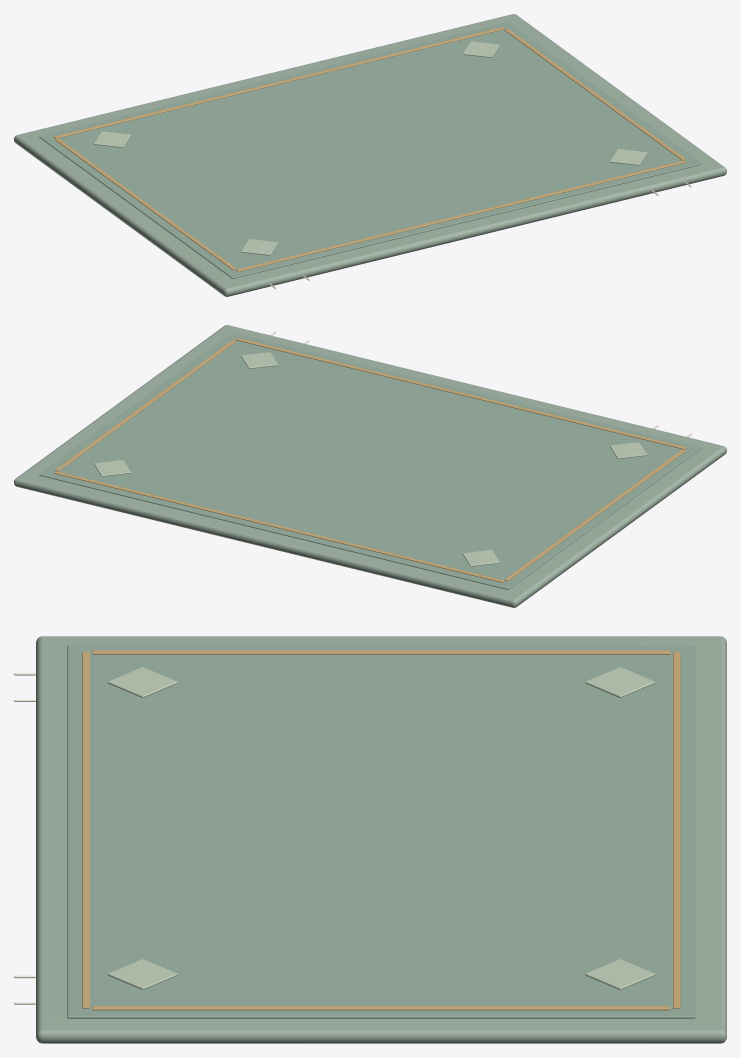
The model's file is rug.glb.
3 renders of one model, top to bottom at view 1: azimuth 30°, elevation 25°; view 2: azimuth 150°, elevation 25°; view 3: azimuth 270°, elevation 25°, orthographic. The views are drawn at different scales.
Parts seen in each view (by area): view 1: Rug inset, Rug body, Woven border, Woven border.001, Woven border.002, Woven border.003, Rug diamond.001, Rug diamond.003, Rug diamond, Rug diamond.002; view 2: Rug inset, Rug body, Woven border, Woven border.001, Woven border.002, Woven border.003, Rug diamond, Rug diamond.002, Rug diamond.001, Rug diamond.003; view 3: Rug inset, Rug body, Woven border.002, Woven border.003, Woven border, Woven border.001, Rug diamond.003, Rug diamond.002, Rug diamond.001, Rug diamond.
Boxes of the visible parts, box(x1,y1,x2,y2) form: Rug inset: box(39, 22, 701, 278); Rug body: box(14, 14, 726, 296); Woven border: box(236, 160, 686, 271); Woven border.001: box(54, 27, 504, 138); Woven border.002: box(55, 138, 236, 270); Woven border.003: box(504, 29, 685, 160); Rug diamond.001: box(93, 131, 131, 147); Rug diamond.003: box(462, 41, 499, 57); Rug diamond: box(241, 239, 278, 255); Rug diamond.002: box(609, 149, 647, 165); Rug inset: box(39, 333, 701, 589); Rug body: box(14, 325, 726, 607); Woven border: box(236, 338, 686, 449); Woven border.001: box(54, 471, 504, 582); Woven border.002: box(504, 449, 685, 581); Woven border.003: box(55, 340, 236, 471); Rug diamond: box(609, 442, 647, 458); Rug diamond.002: box(241, 352, 278, 368); Rug diamond.001: box(462, 550, 499, 566); Rug diamond.003: box(93, 460, 131, 476); Rug inset: box(67, 645, 695, 1018); Rug body: box(36, 636, 726, 1043); Woven border.002: box(92, 650, 670, 654); Woven border.003: box(92, 1006, 670, 1010); Woven border: box(82, 652, 89, 1008); Woven border.001: box(673, 652, 680, 1008); Rug diamond.003: box(585, 959, 655, 990); Rug diamond.002: box(107, 959, 177, 990); Rug diamond.001: box(585, 667, 655, 697); Rug diamond: box(107, 667, 177, 697).
Size of the model in its own units: 1.5 by 0.034 by 1.13.
